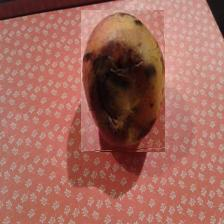Mango Rotten: (82, 11, 166, 153)
